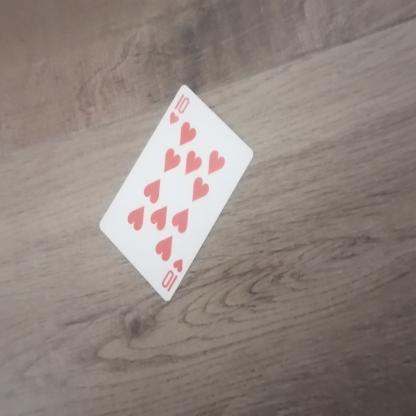10H: (162, 86, 194, 136), (158, 250, 189, 299)
